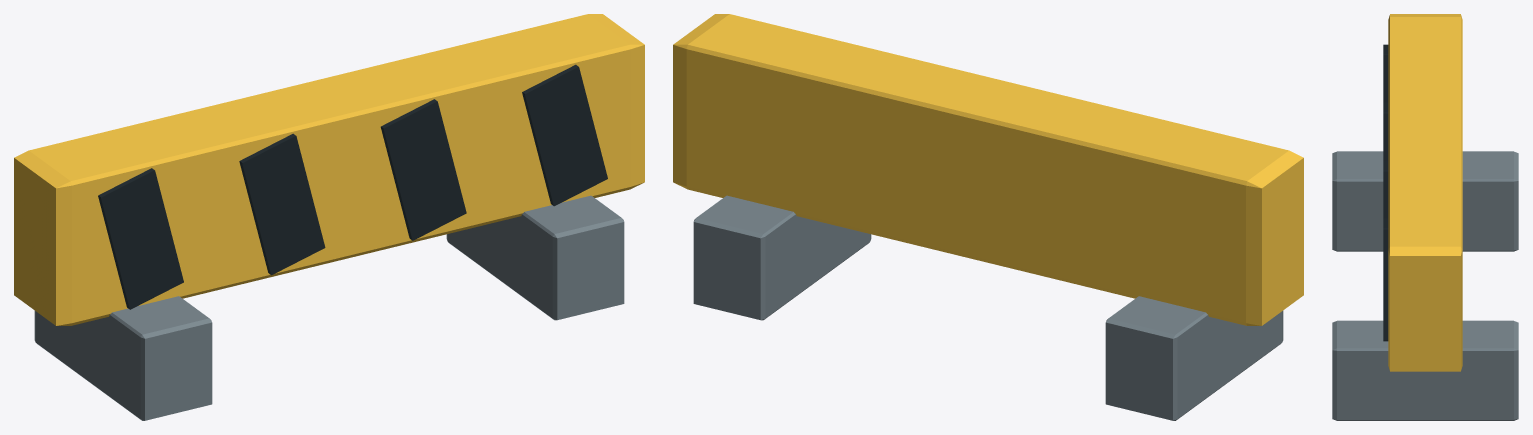
The model's file is barricade_2m.glb.
3 views of the same model, side by side, from view 1: azimuth 30°, elevation 25°; view 2: azimuth 150°, elevation 25°; view 3: azimuth 270°, elevation 25° (orthographic). The views are drawn at different scales.
Visible parts, largest first — view 1: Barrier beam.001, Barrier foot.002, Barrier foot.003, Dark stripe.004, Dark stripe.007, Dark stripe.006, Dark stripe.005; view 2: Barrier beam.001, Barrier foot.002, Barrier foot.003; view 3: Barrier beam.001, Barrier foot.003, Barrier foot.002, Dark stripe.007, Dark stripe.004, Dark stripe.005, Dark stripe.006.
Boxes of the visible parts, x1,y1,x2,y2 form: Barrier beam.001: (14,14,644,325); Barrier foot.002: (34,296,212,420); Barrier foot.003: (446,195,624,320); Dark stripe.004: (98,168,183,309); Dark stripe.007: (522,64,607,206); Dark stripe.006: (380,99,466,240); Dark stripe.005: (239,133,325,275); Barrier beam.001: (673,14,1303,325); Barrier foot.002: (1105,296,1283,420); Barrier foot.003: (693,195,871,320); Barrier beam.001: (1388,14,1462,371); Barrier foot.003: (1332,320,1518,420); Barrier foot.002: (1332,151,1518,251); Dark stripe.007: (1383,218,1388,341); Dark stripe.004: (1383,44,1388,102); Dark stripe.005: (1383,102,1388,160); Dark stripe.006: (1383,160,1388,218).
Bounding box in the file's own units: 2 × 0.735 × 0.65.
